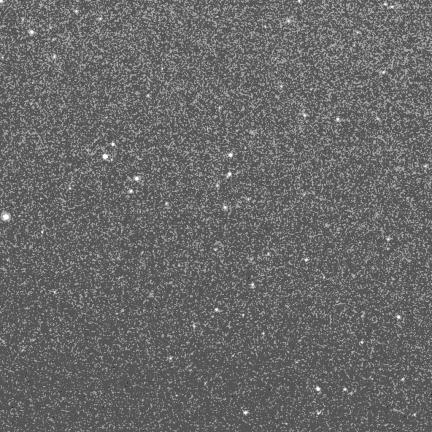blob: (2, 214, 10, 221), (103, 154, 109, 160), (397, 315, 402, 320), (243, 411, 249, 415), (382, 71, 387, 75), (30, 30, 34, 35), (228, 172, 232, 177), (336, 118, 341, 122), (193, 324, 197, 329), (98, 17, 103, 21), (215, 308, 219, 312), (135, 176, 139, 180), (129, 189, 133, 193), (229, 153, 233, 157), (305, 258, 309, 262), (424, 164, 428, 168), (316, 387, 320, 391), (111, 142, 115, 146), (343, 387, 347, 391), (252, 283, 255, 288), (242, 314, 245, 318), (69, 187, 72, 191), (41, 230, 44, 234), (53, 54, 56, 58), (401, 378, 405, 381), (303, 114, 306, 117), (75, 10, 78, 13), (165, 202, 168, 205), (387, 238, 390, 241), (224, 206, 227, 209), (169, 357, 172, 360), (384, 3, 387, 5), (391, 6, 394, 8), (361, 341, 363, 344)
